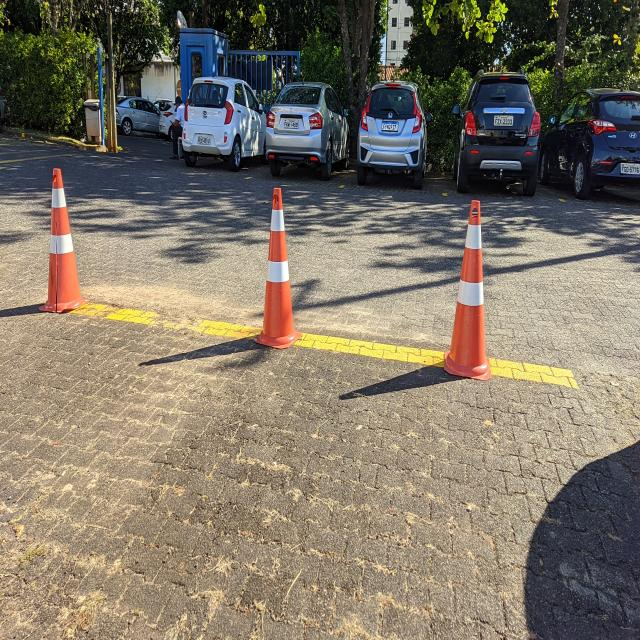cone: (442, 196, 493, 384), (251, 183, 304, 351), (37, 164, 90, 318)
